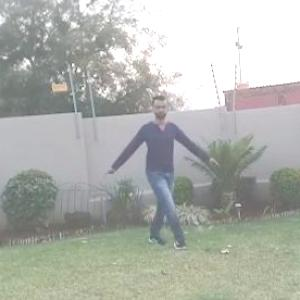land: (105, 101, 211, 240)
